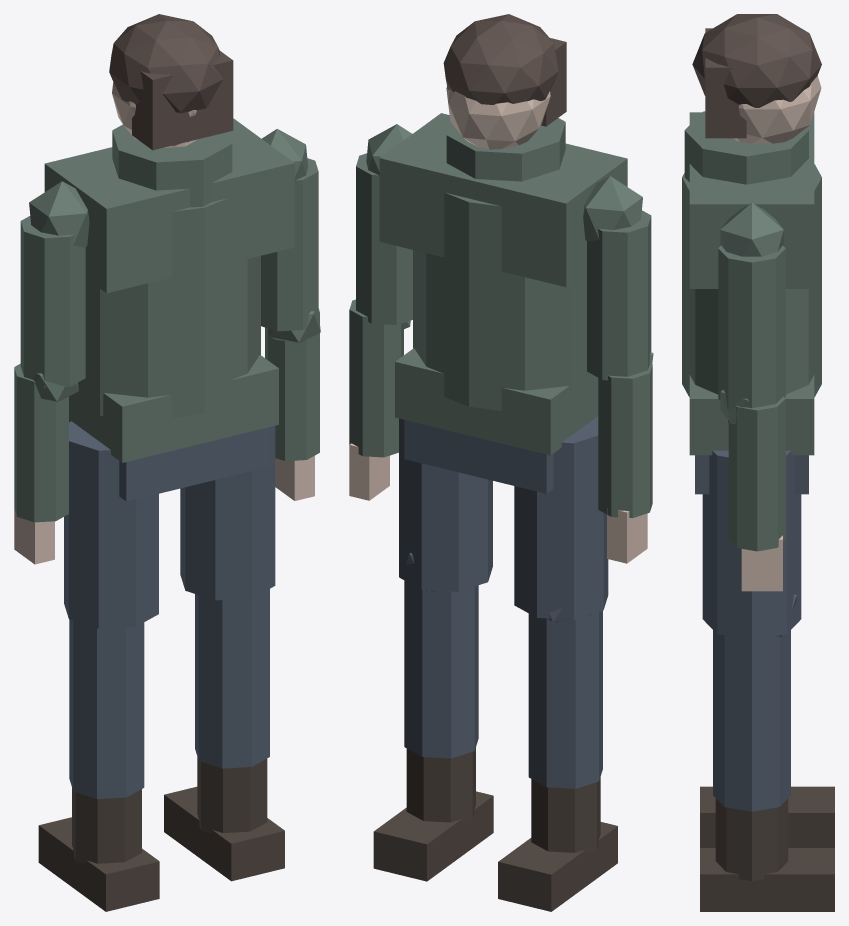
The model's file is player_body.glb.
The picture shows the model from 3 angles, left to right: view 1: azimuth 30°, elevation 25°; view 2: azimuth 150°, elevation 25°; view 3: azimuth 270°, elevation 25°; orthographic projection.
Visible parts, largest first — view 1: Player_Body; view 2: Player_Body; view 3: Player_Body.
Part boxes in pixels (bbox=[...]): Player_Body: bbox=[14, 14, 320, 911]; Player_Body: bbox=[349, 14, 653, 911]; Player_Body: bbox=[682, 14, 834, 911].
Size of the model in its own units: 0.67 by 1.81 by 0.295.
